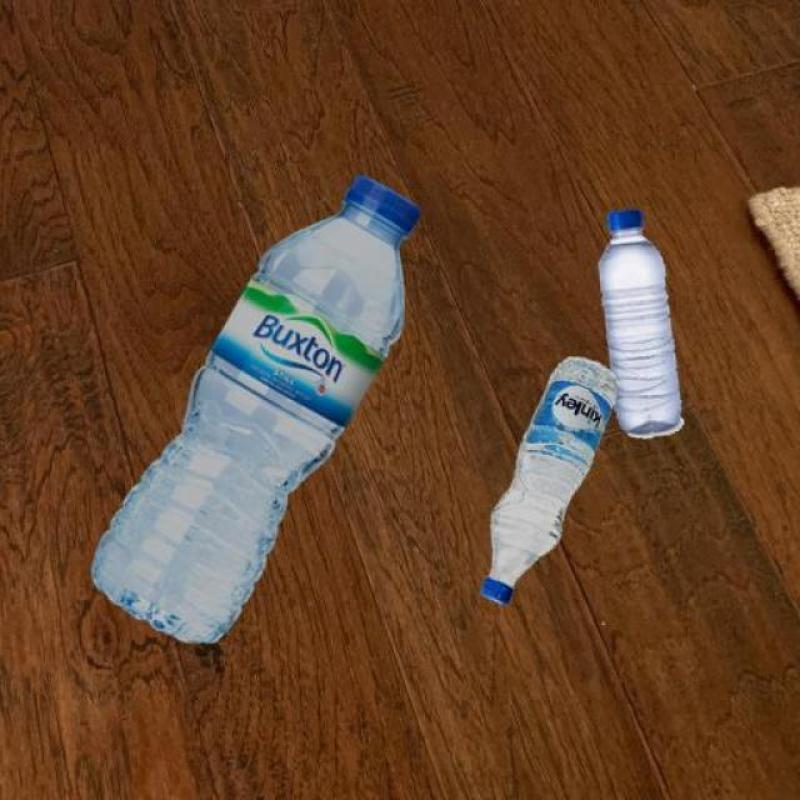botella: (88, 174, 424, 650), (483, 357, 622, 605), (598, 208, 690, 440)
